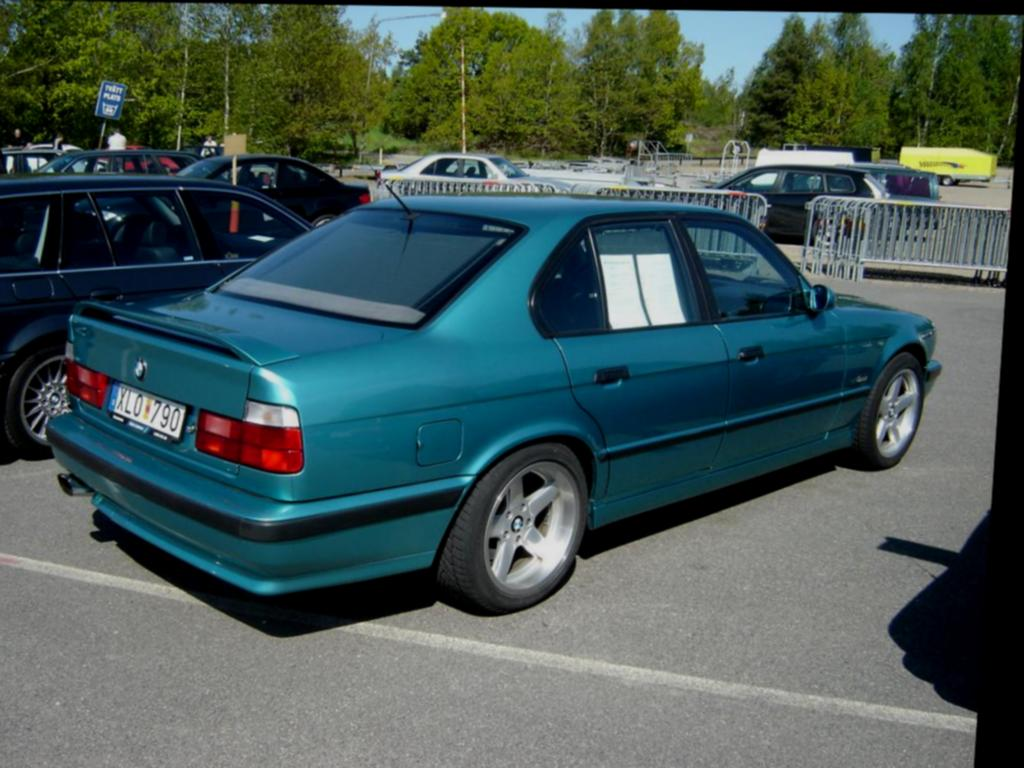License_Plate: (90, 386, 197, 458)
